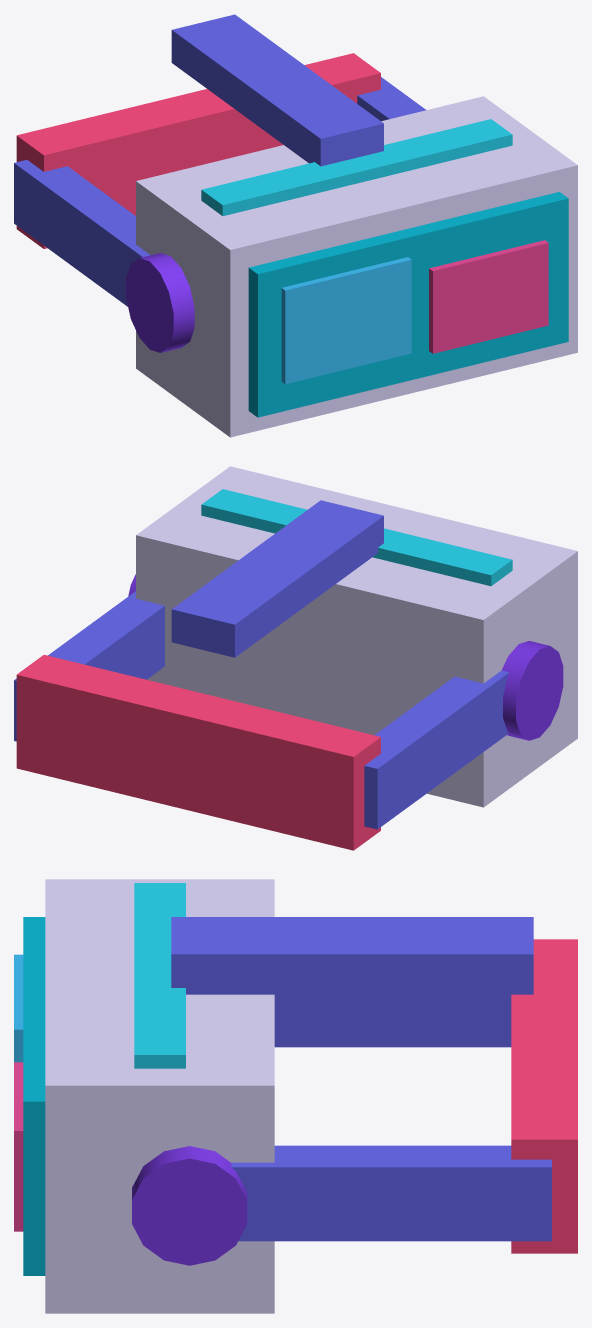
Rendered from w5_06_vr_headset.glb.
The picture shows the model from 3 angles, top to bottom: view 1: azimuth 30°, elevation 25°; view 2: azimuth 150°, elevation 25°; view 3: azimuth 270°, elevation 25°; orthographic projection. The views are drawn at different scales.
Visible parts, largest first — view 1: W5_06_VRHeadset; view 2: W5_06_VRHeadset; view 3: W5_06_VRHeadset.
Boxes of the visible parts, left/top/right/bottom form: W5_06_VRHeadset: left=14, top=14, right=577, bottom=437; W5_06_VRHeadset: left=14, top=466, right=577, bottom=850; W5_06_VRHeadset: left=14, top=879, right=577, bottom=1313.
Size of the model in its own units: 1.48 by 0.82 by 1.52.
Materials: 1 (1 with a texture image).
